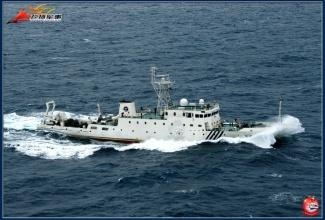warship: (28, 65, 297, 145)
